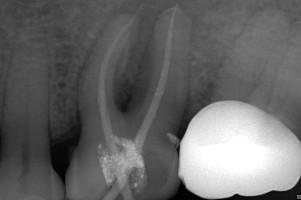Dental Caries: (113, 0, 223, 111)
